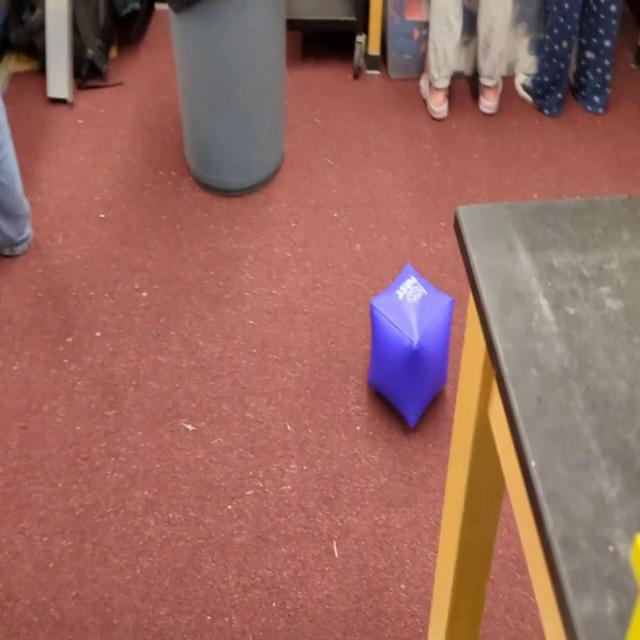frc_cube: (366, 262, 454, 432)
